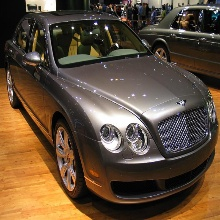no damage: (5, 10, 220, 212), (138, 4, 220, 86)
